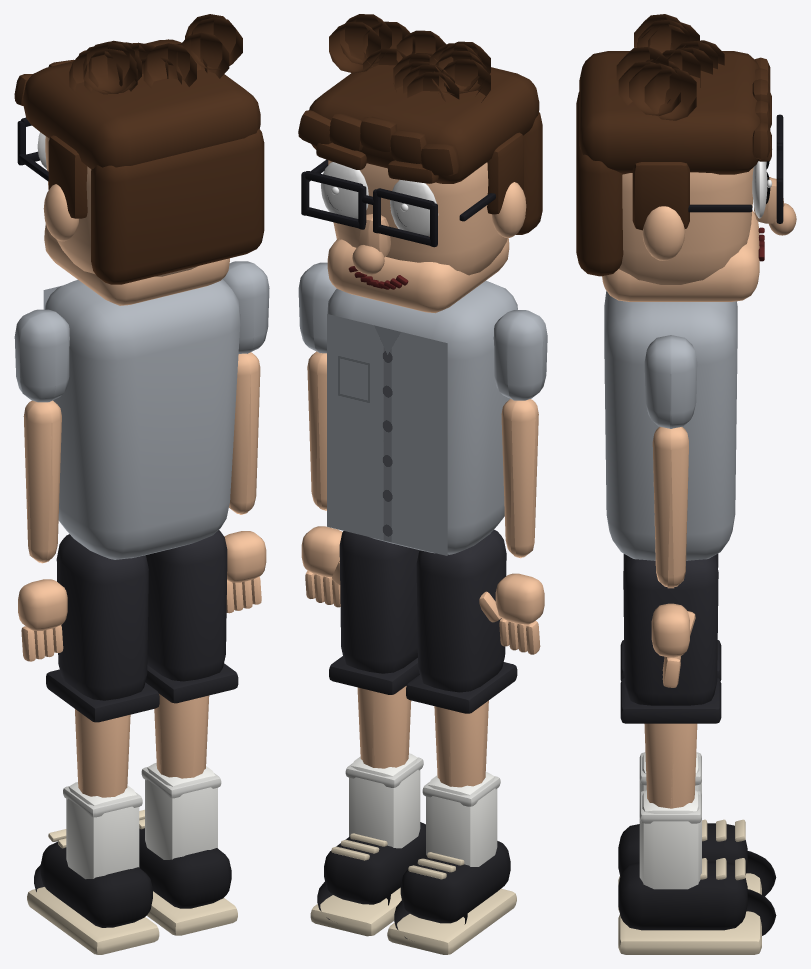
File: knowItAll.glb
The picture shows the model from 3 angles, left to right: view 1: azimuth 30°, elevation 25°; view 2: azimuth 150°, elevation 25°; view 3: azimuth 270°, elevation 25°; orthographic projection. The views are drawn at different scales.
Visible parts, largest first — view 1: torso, legL, legR, hairtop_head_hair_15, hair_head_hair_15, armL, armR, head, glasses_head_m_16; view 2: torso, legL, legR, hairtop_head_hair_15, head, armL, armR, hair_head_hair_15, glasses_head_m_16; view 3: legR, torso, hairtop_head_hair_15, head, armR, hair_head_hair_15, legL, glasses_head_m_16.
Boxes of the visible parts, left/top/right/bottom form: torso: left=43, top=279, right=240, bottom=559; legL: left=27, top=534, right=159, bottom=954; legR: left=139, top=530, right=238, bottom=935; hairtop_head_hair_15: left=14, top=14, right=260, bottom=168; hair_head_hair_15: left=48, top=129, right=264, bottom=284; armL: left=14, top=309, right=69, bottom=661; armR: left=222, top=261, right=269, bottom=613; head: left=37, top=132, right=229, bottom=305; glasses_head_m_16: left=17, top=117, right=48, bottom=181; torso: left=327, top=281, right=517, bottom=555; legL: left=387, top=529, right=517, bottom=954; legR: left=310, top=531, right=425, bottom=936; hairtop_head_hair_15: left=298, top=14, right=539, bottom=183; head: left=316, top=142, right=526, bottom=313; armL: left=479, top=310, right=547, bottom=654; armR: left=298, top=262, right=342, bottom=607; hair_head_hair_15: left=487, top=112, right=542, bottom=234; glasses_head_m_16: left=301, top=159, right=495, bottom=247; legR: left=618, top=555, right=776, bottom=954; torso: left=604, top=291, right=737, bottom=560; hairtop_head_hair_15: left=579, top=14, right=770, bottom=174; head: left=602, top=93, right=796, bottom=301; armR: left=644, top=335, right=697, bottom=687; hair_head_hair_15: left=576, top=92, right=689, bottom=276; legL: left=618, top=554, right=776, bottom=911; glasses_head_m_16: left=688, top=114, right=783, bottom=223.
Size of the model in its own units: 0.5898 by 2.05 by 0.46.
Materials: 17 (1 with a texture image).
